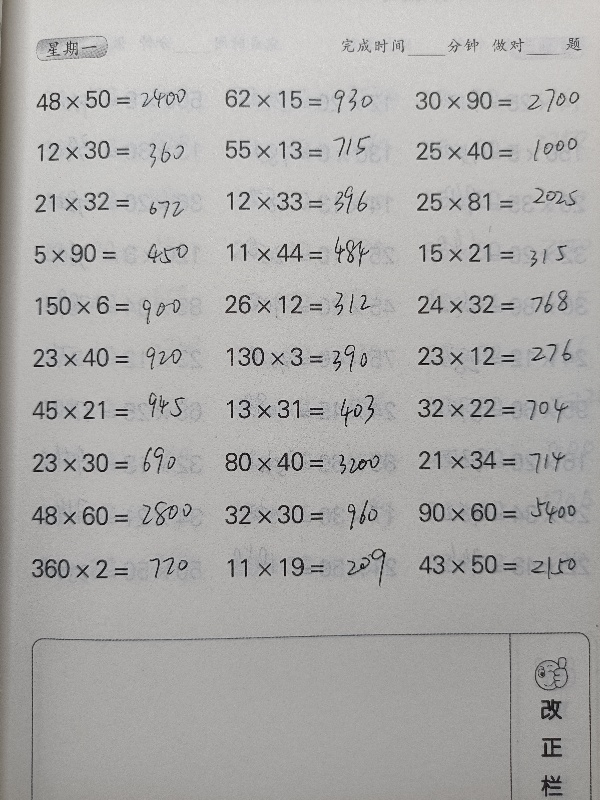equation: (218, 226, 398, 271), (218, 180, 398, 224), (218, 337, 398, 380), (27, 288, 207, 329), (216, 284, 396, 325), (23, 551, 203, 586), (219, 549, 399, 584), (410, 547, 590, 582), (23, 498, 203, 533), (217, 497, 397, 532), (410, 495, 590, 530), (24, 445, 204, 480), (217, 444, 397, 479), (25, 393, 205, 428), (219, 392, 399, 427), (410, 391, 590, 426), (25, 340, 205, 375), (26, 235, 206, 270), (26, 184, 206, 219), (27, 81, 207, 116), (410, 443, 590, 477), (410, 339, 590, 373), (410, 288, 590, 322), (411, 236, 591, 270), (409, 185, 589, 219), (408, 134, 588, 168), (216, 133, 396, 167), (28, 133, 208, 167), (408, 84, 588, 118), (216, 82, 396, 116)
